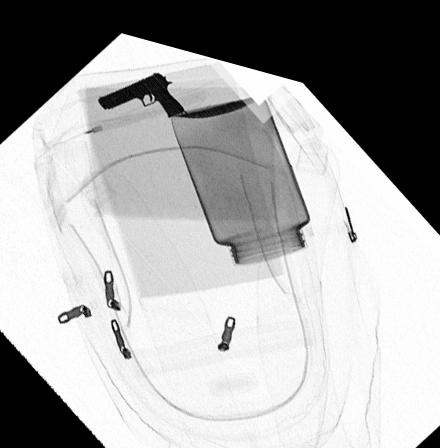Gun: (95, 63, 188, 111)
